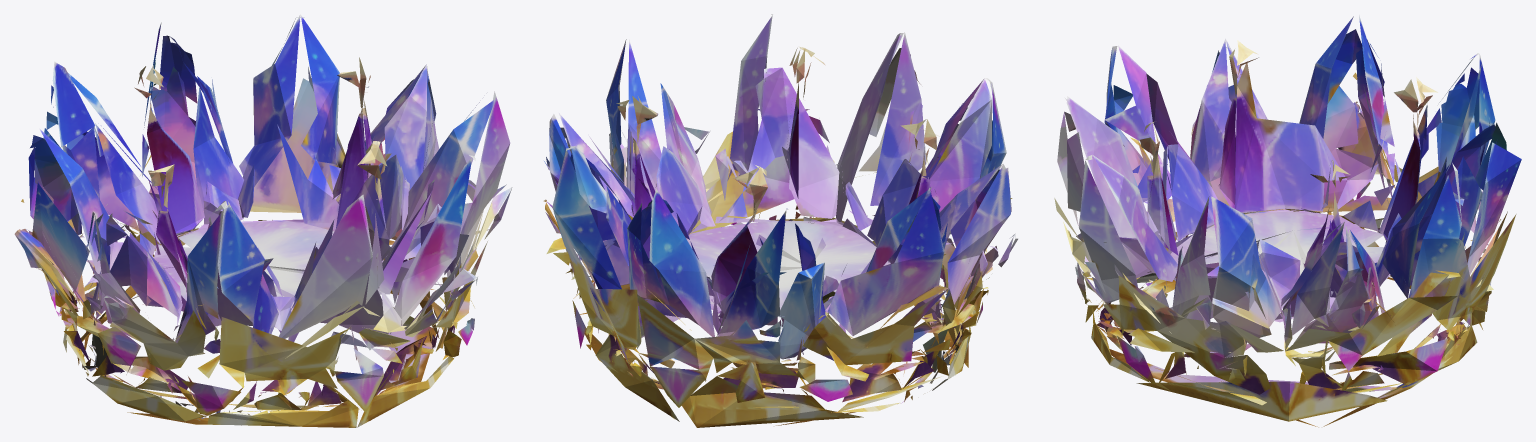
File: hatNebulaCrown_lo.glb
The picture shows the model from 3 angles, left to right: view 1: azimuth 30°, elevation 25°; view 2: azimuth 150°, elevation 25°; view 3: azimuth 270°, elevation 25°; orthographic projection. The views are drawn at different scales.
Visible parts, largest first — view 1: geometry_0; view 2: geometry_0; view 3: geometry_0.
Part boxes in pixels (x1,y1,x2,y2): geometry_0: (14,14,512,427); geometry_0: (543,14,1017,427); geometry_0: (1054,15,1521,427).
Bounding box in the file's own units: 0.9912 × 0.561 × 0.997.
Materials: 1 (1 with a texture image).
